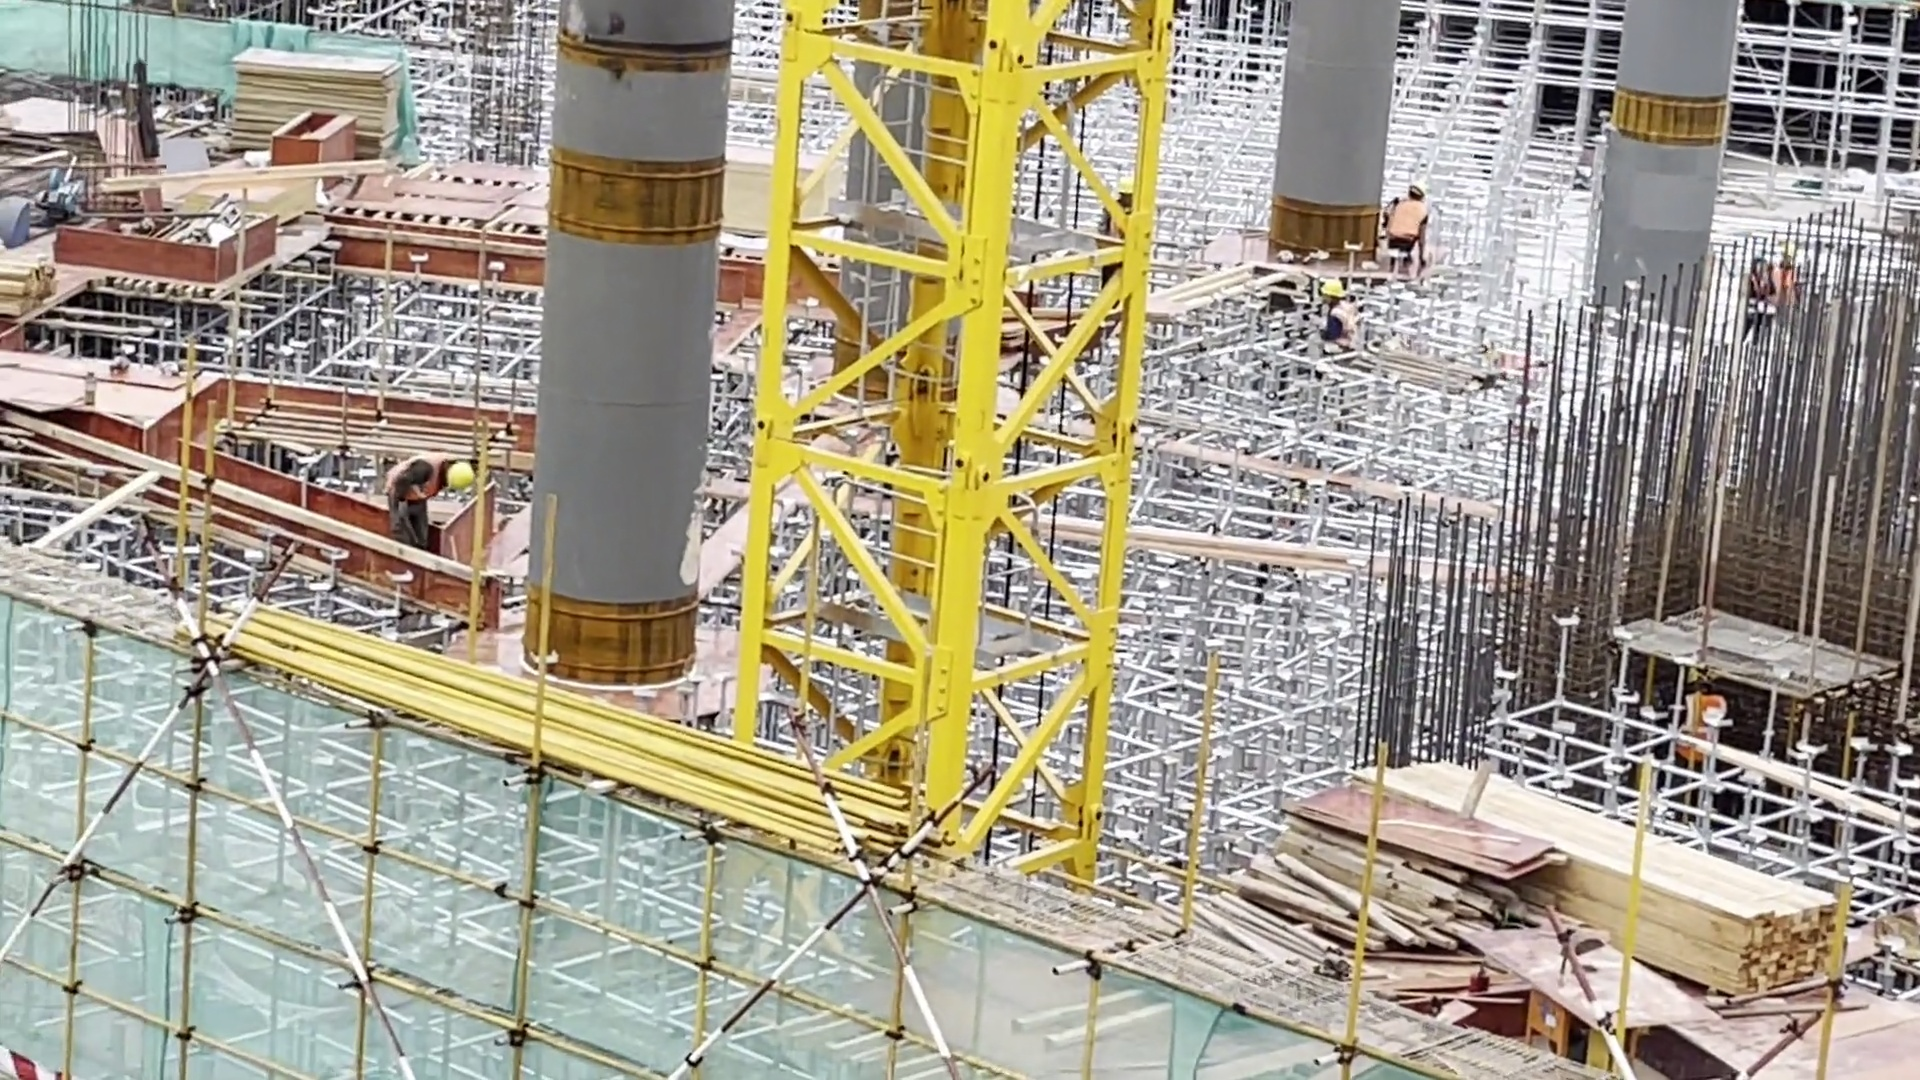helmet: (1401, 173, 1445, 220), (444, 451, 474, 491), (1315, 267, 1344, 304), (1115, 171, 1142, 204)
person: (376, 448, 473, 545), (1379, 173, 1437, 275), (1314, 274, 1365, 366)
vest: (389, 456, 442, 498), (1389, 201, 1423, 238), (1325, 306, 1360, 343)
